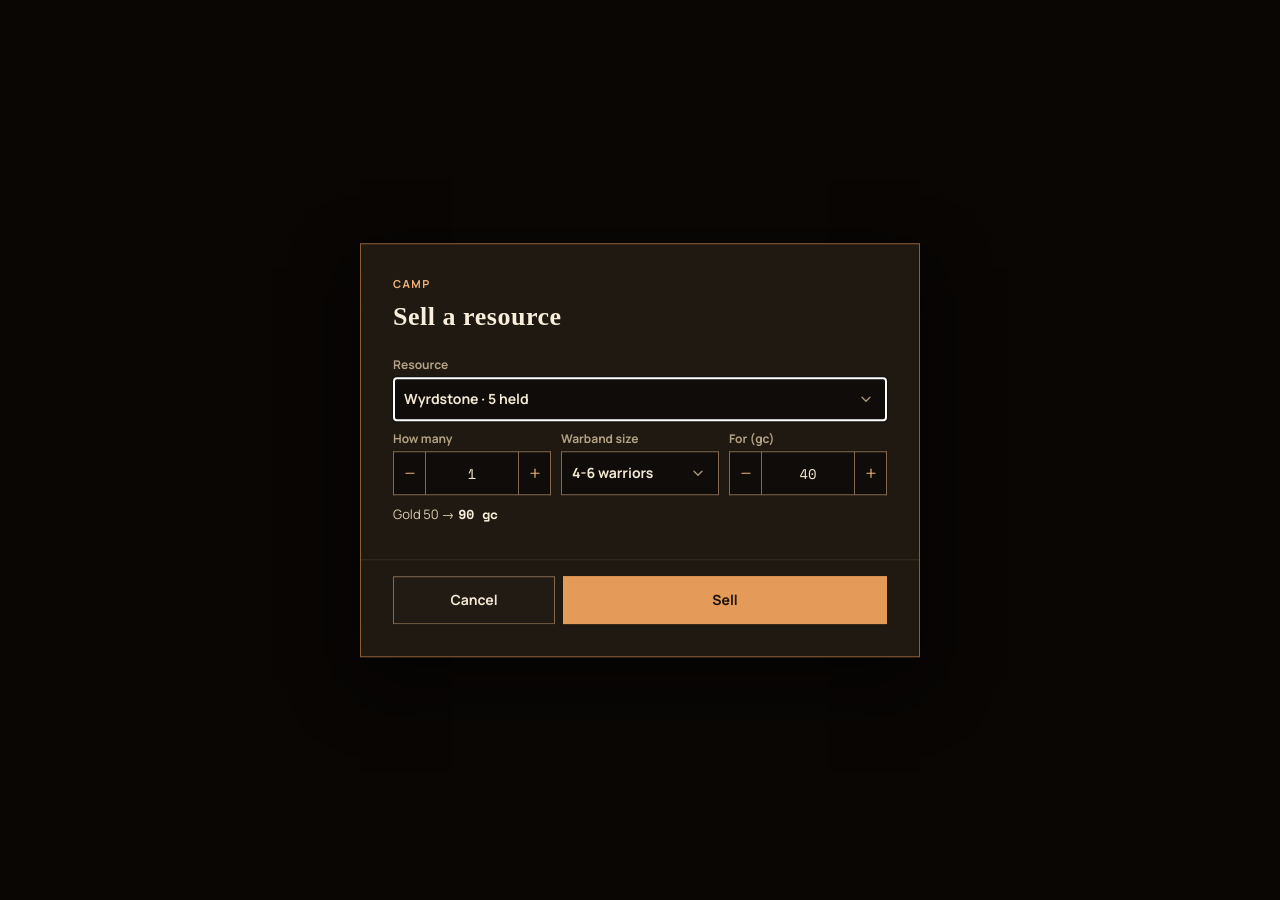
Camp's Sell › sells another resource as before
Select "Amber · 2 held" in the dropdown labelled "Resource" at (640, 399), box [393,377,887,421]
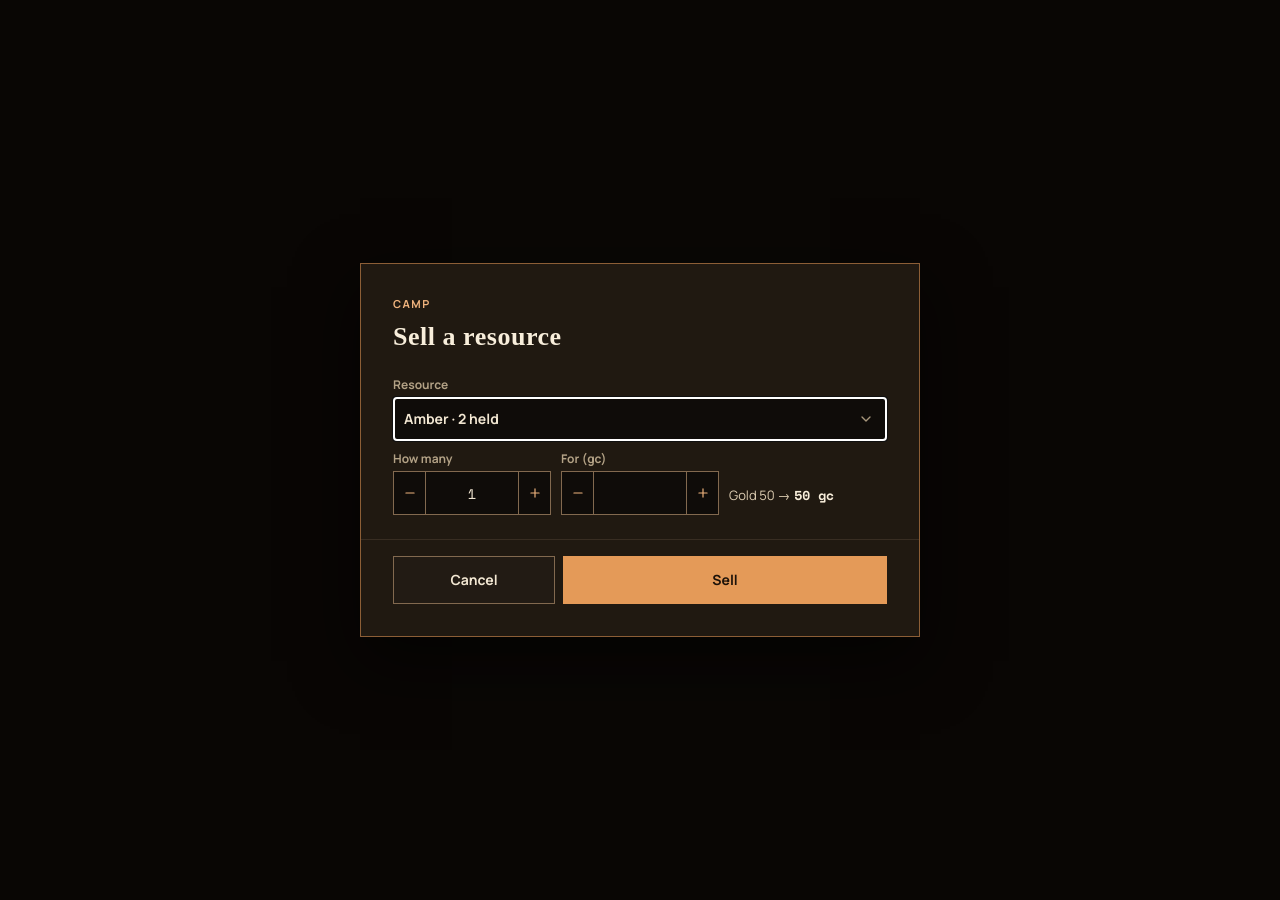
Expected: the label "Warband size" is gone
Expected: the number field labelled "For (gc)" is not empty, [593,471,687,515]
